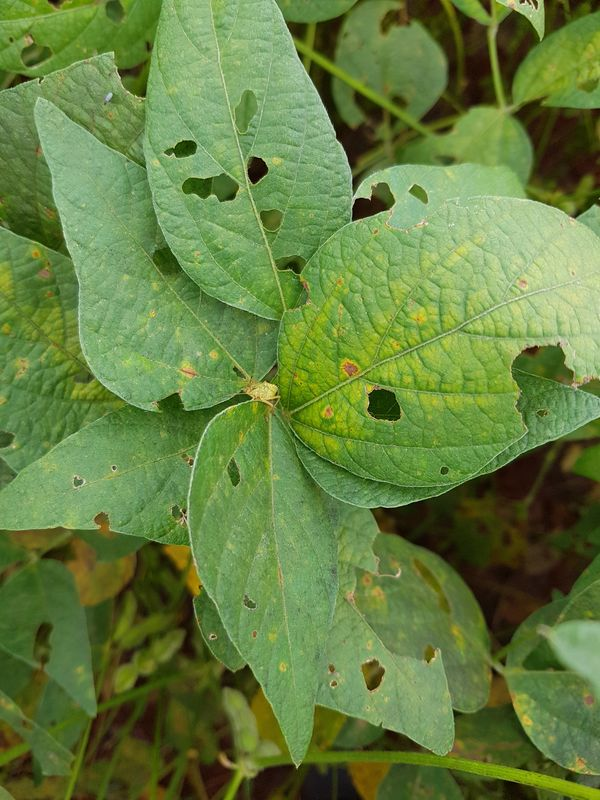Euschistus_heros_ninfa: (232, 373, 284, 419)
